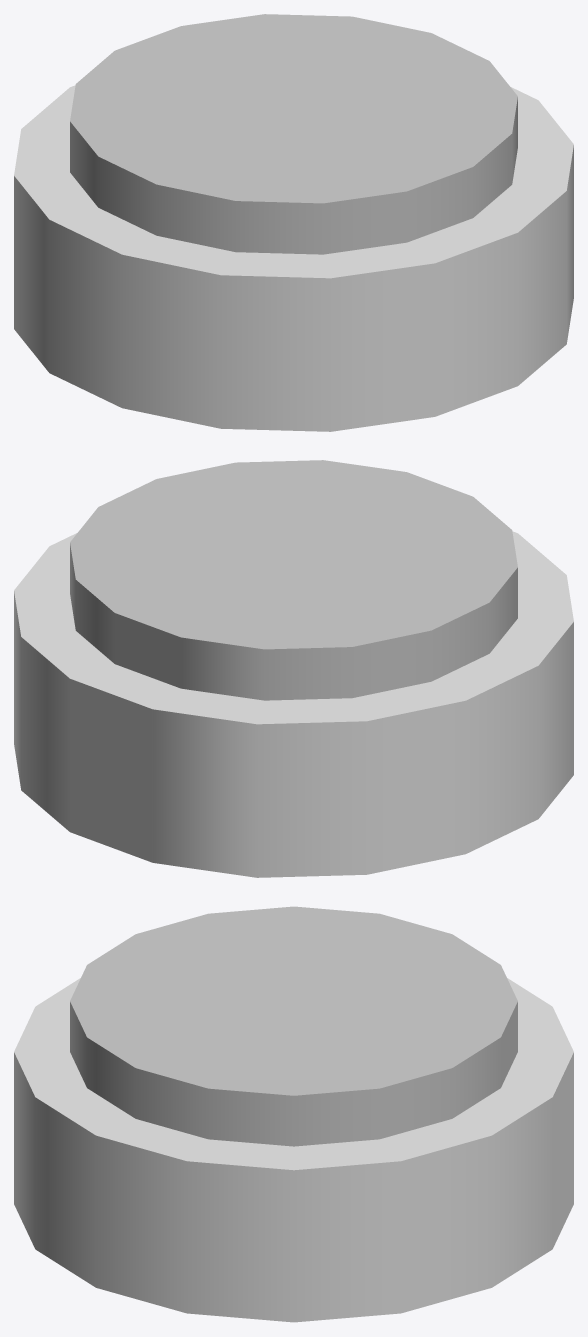
The model's file is switch.fbx.
3 renders of one model, top to bottom at view 1: azimuth 30°, elevation 25°; view 2: azimuth 150°, elevation 25°; view 3: azimuth 270°, elevation 25°, orthographic.
Visible parts, largest first — view 1: dodai, _switch; view 2: dodai, _switch; view 3: dodai, _switch.
Part boxes in pixels (x1,y1,x2,y2): dodai: (14,85,573,431); _switch: (70,14,517,254); dodai: (14,531,573,877); _switch: (70,460,517,700); dodai: (14,978,573,1322); _switch: (70,906,517,1146).
Bounding box in the file's own units: 50 × 20 × 50.
